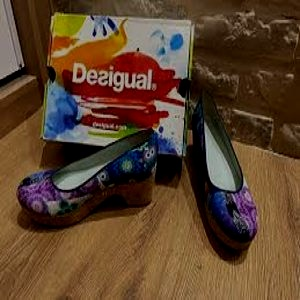desigual: (123, 27, 191, 82)
